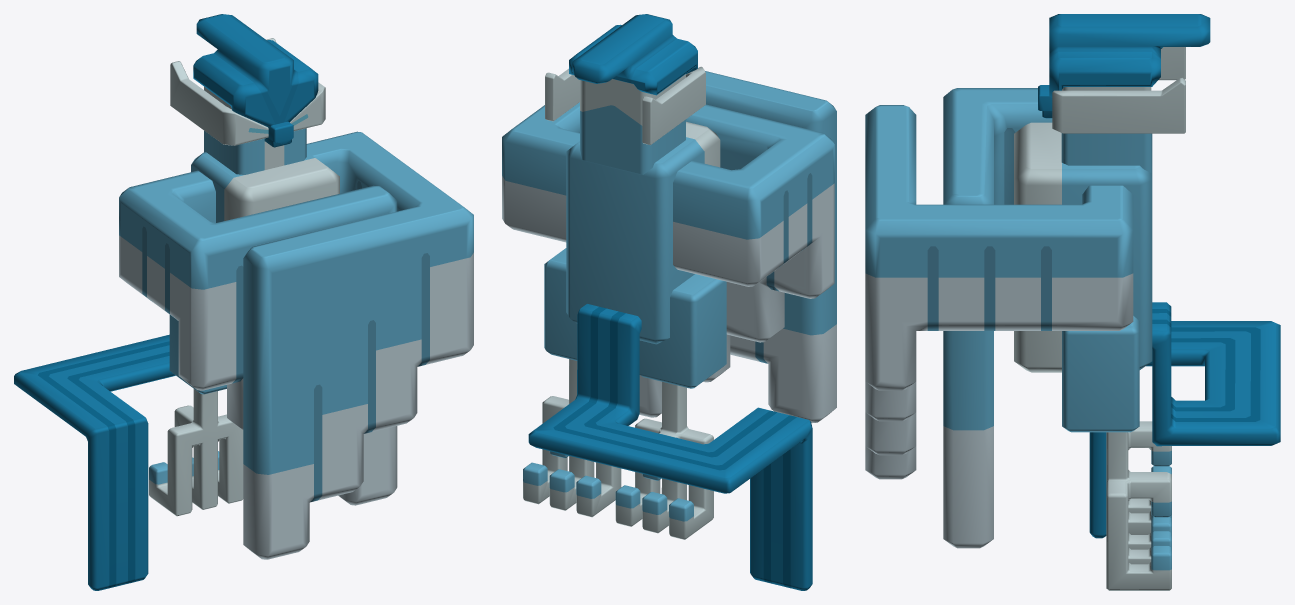
3 views of the same model, side by side, from view 1: azimuth 30°, elevation 25°; view 2: azimuth 150°, elevation 25°; view 3: azimuth 270°, elevation 25° (orthographic). The views are drawn at different scales.
Visible parts, largest first — view 1: model; view 2: model; view 3: model.
Part boxes in pixels (x1,y1,x2,y2): model: (14,14,473,590); model: (502,14,836,590); model: (865,14,1280,590).
Bounding box in the file's own units: 2.66 × 4.42 × 2.85.
